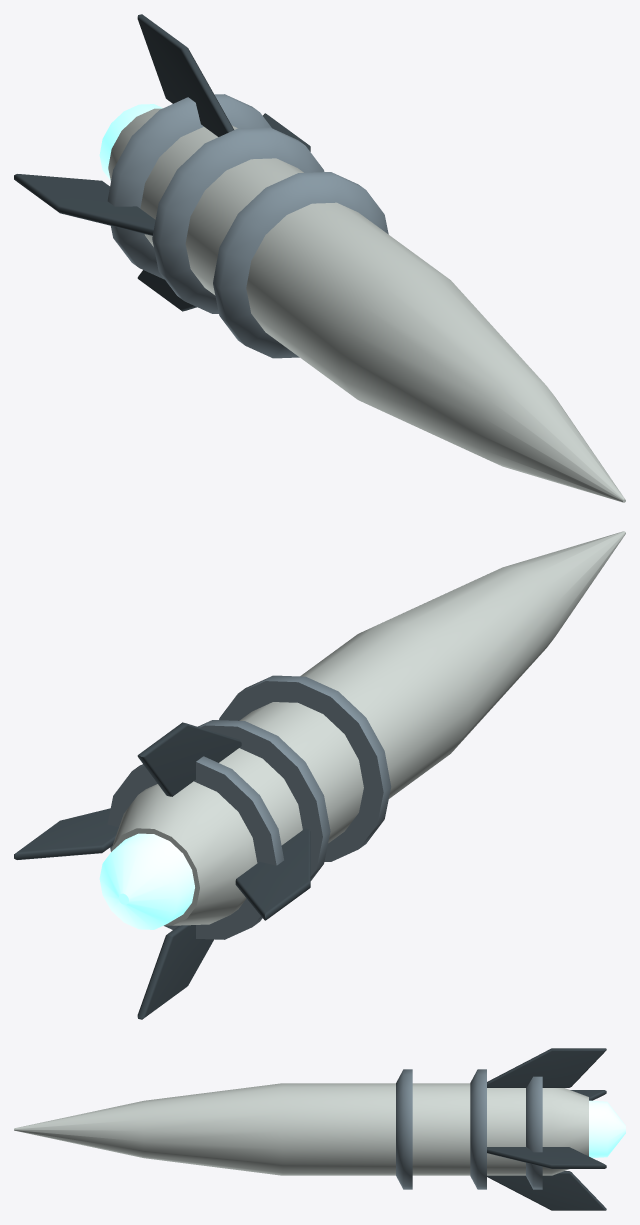
File: zb_sniper.glb
The picture shows the model from 3 angles, top to bottom: view 1: azimuth 30°, elevation 25°; view 2: azimuth 150°, elevation 25°; view 3: azimuth 270°, elevation 25°; orthographic projection. The views are drawn at different scales.
Visible parts, largest first — view 1: zb_sniper / Ivory ceramic, zb_sniper / Machined titanium, zb_sniper / Carbon ceramic, zb_sniper / Ion exhaust; view 2: zb_sniper / Ivory ceramic, zb_sniper / Machined titanium, zb_sniper / Carbon ceramic, zb_sniper / Ion exhaust; view 3: zb_sniper / Ivory ceramic, zb_sniper / Carbon ceramic, zb_sniper / Machined titanium, zb_sniper / Ion exhaust.
Boxes of the visible parts, <box> form: zb_sniper / Ivory ceramic: <box>108,108,625,502</box>; zb_sniper / Machined titanium: <box>107,94,388,358</box>; zb_sniper / Carbon ceramic: <box>14,14,310,311</box>; zb_sniper / Ion exhaust: <box>99,104,162,180</box>; zb_sniper / Ivory ceramic: <box>111,531,625,925</box>; zb_sniper / Machined titanium: <box>107,675,391,939</box>; zb_sniper / Carbon ceramic: <box>14,722,310,1019</box>; zb_sniper / Ion exhaust: <box>99,833,194,929</box>; zb_sniper / Ivory ceramic: <box>14,1083,588,1175</box>; zb_sniper / Carbon ceramic: <box>487,1048,606,1210</box>; zb_sniper / Machined titanium: <box>396,1069,542,1189</box>; zb_sniper / Ion exhaust: <box>589,1100,625,1158</box>.
Bounding box in the file's own units: 9.6 × 9.6 × 33.
